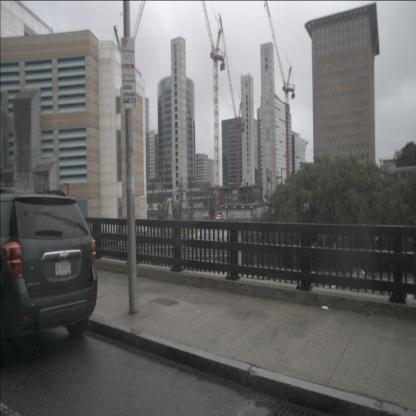vehicle-car: (0, 186, 98, 345), (342, 268, 377, 286), (216, 215, 223, 222)
